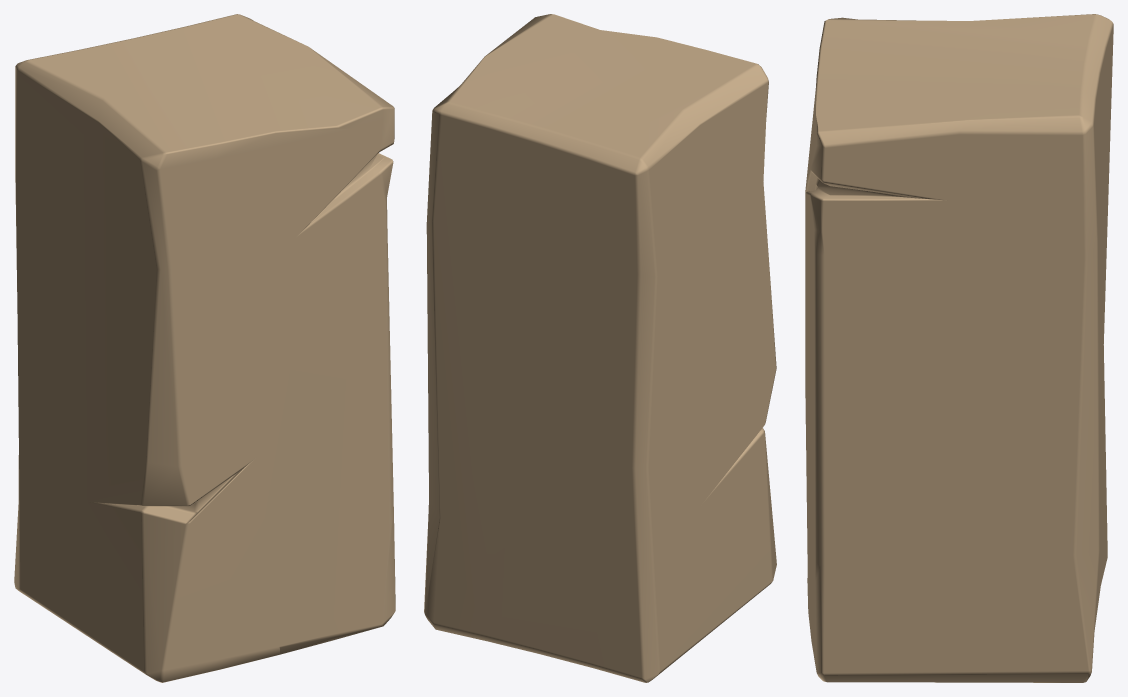
File: brick01s1.glb
3 renders of one model, left to right at view 1: azimuth 30°, elevation 25°; view 2: azimuth 150°, elevation 25°; view 3: azimuth 270°, elevation 25°, orthographic. The views are drawn at different scales.
Parts seen in each view (by area): view 1: Brick01.s1; view 2: Brick01.s1; view 3: Brick01.s1.
Part boxes in pixels (x1=…): Brick01.s1: x1=14, y1=14, x2=395, y2=682; Brick01.s1: x1=424, y1=14, x2=776, y2=682; Brick01.s1: x1=805, y1=14, x2=1113, y2=682.
Bounding box in the file's own units: 0.3873 × 0.7914 × 0.3906.
